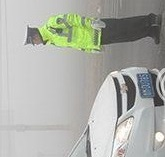person: (22, 11, 165, 54)
